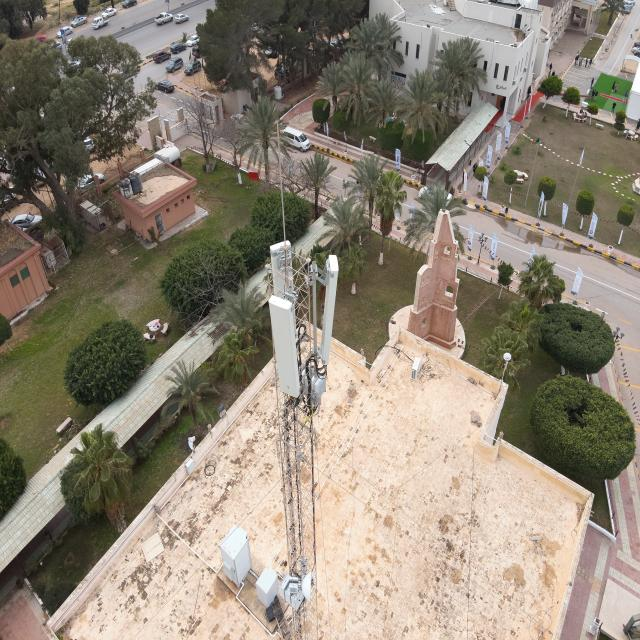antenna: (263, 293, 303, 403), (270, 240, 298, 338), (318, 251, 339, 370)
lighnig-rad: (273, 121, 289, 250)
microware-dish: (289, 570, 312, 604)
power-box: (278, 572, 304, 611)
radio-unit: (296, 364, 326, 397)
